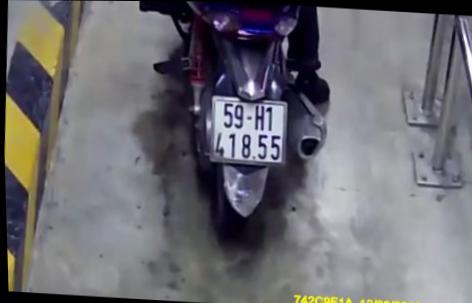LP: (205, 93, 290, 169)
